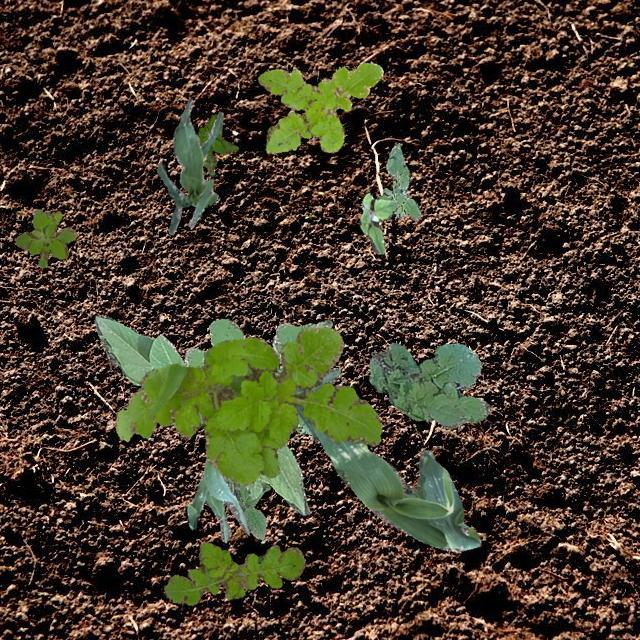crop: (292, 368, 480, 550), (94, 314, 202, 422), (156, 98, 222, 234), (187, 458, 250, 542), (244, 444, 308, 514), (224, 476, 268, 538)
weed: (114, 326, 380, 484), (184, 317, 332, 433), (256, 59, 382, 152), (368, 342, 489, 428), (162, 540, 304, 604), (15, 208, 74, 266), (378, 143, 420, 220), (196, 114, 238, 176), (358, 192, 398, 254)
